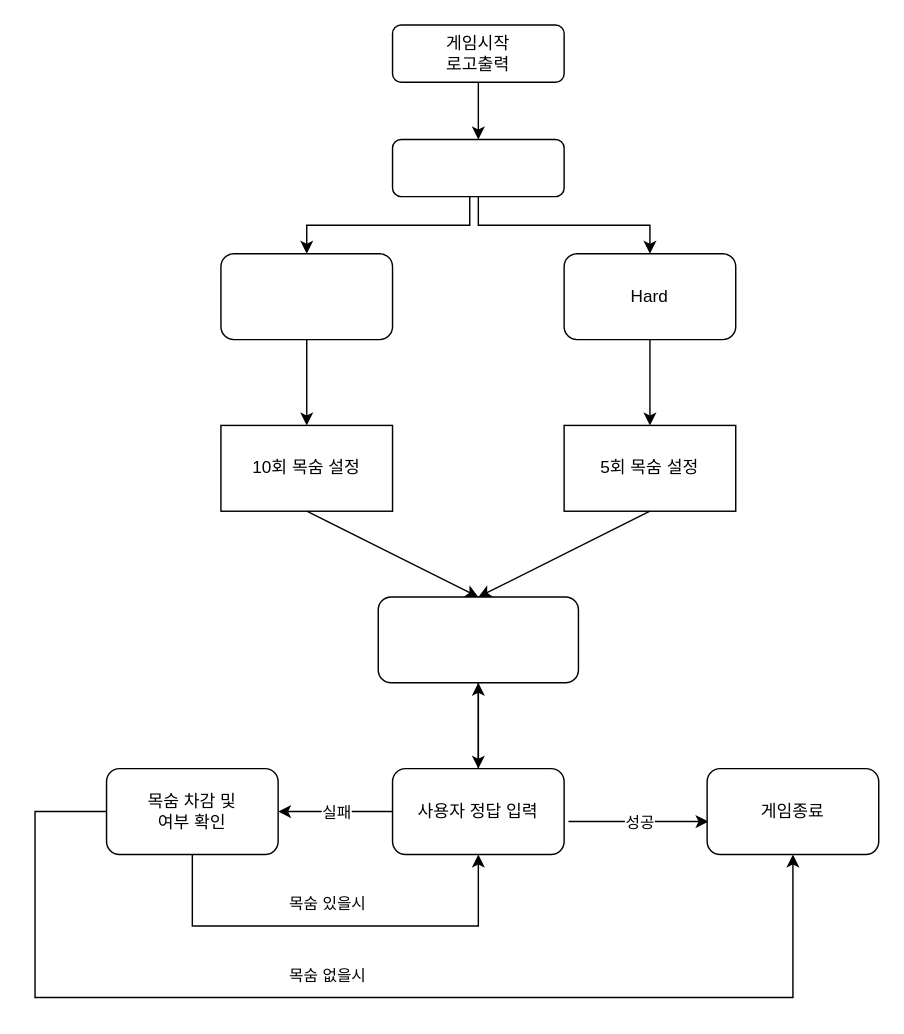
This 904x1034 diagram has some shape labels left out. Here are the shapes that lost their labels. From the top down, the centre of each, then its label:
At [477,167]: "난이도 선택".
At [306,296]: "Easy".
At [477,639]: "무작위 정답 숫자 선택".
